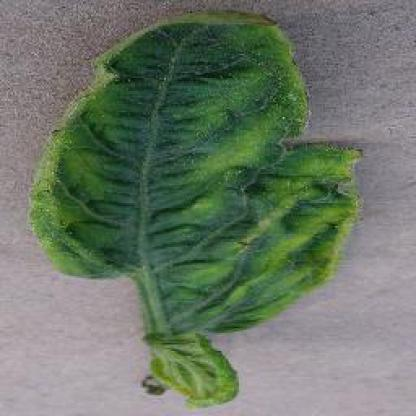bad leaf: (83, 28, 344, 376)
